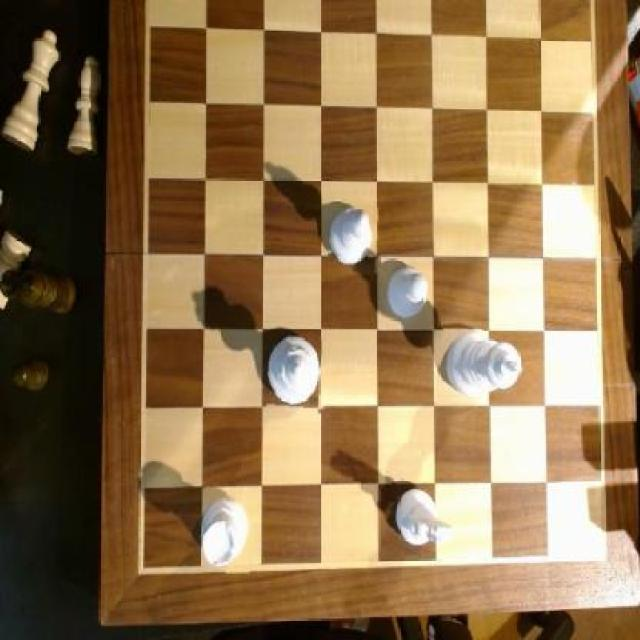black-rook: (329, 205, 380, 273)
white-bishop: (443, 328, 522, 405)
white-king: (392, 483, 455, 555)
white-knight: (385, 268, 430, 329)
white-pawn: (268, 335, 327, 414)
white-queen: (202, 492, 252, 573)
